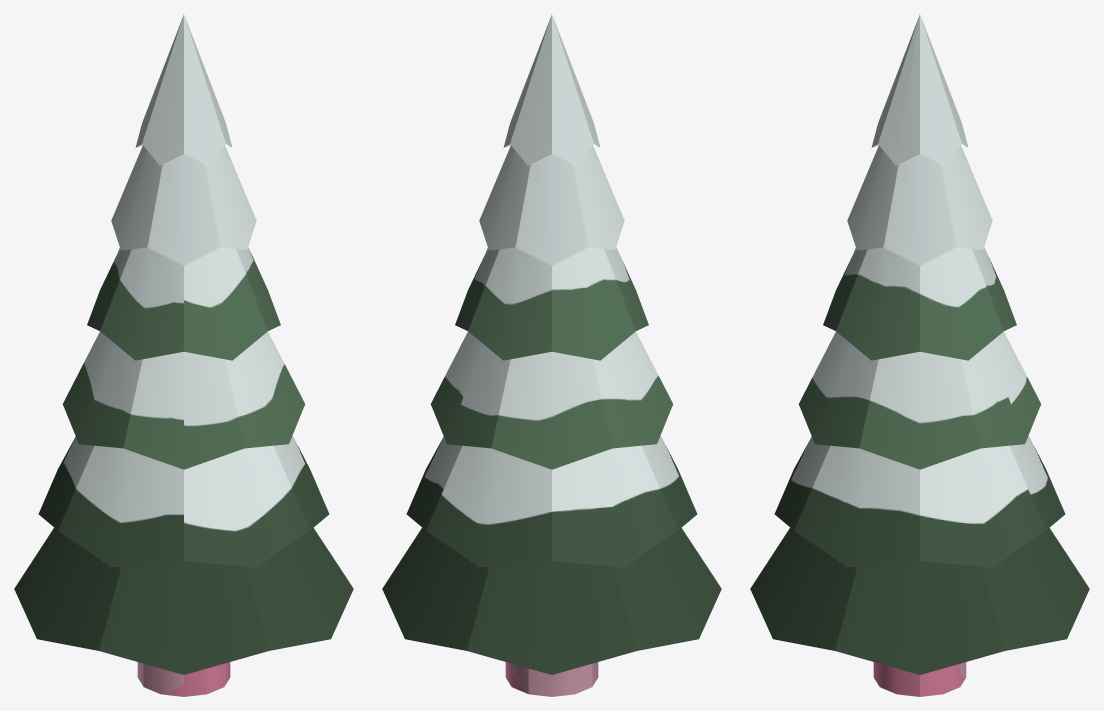
File: FoxTreeTest_2 1.fbx
3 renders of one model, left to right at view 1: azimuth 30°, elevation 25°; view 2: azimuth 150°, elevation 25°; view 3: azimuth 270°, elevation 25°, orthographic.
Visible parts, largest first — view 1: Cylinder.001; view 2: Cylinder.001; view 3: Cylinder.001.
Part boxes in pixels (<box>): Cylinder.001: <box>14,14,353,696</box>; Cylinder.001: <box>382,14,721,696</box>; Cylinder.001: <box>750,14,1089,696</box>.
Bounding box in the file's own units: 370 × 798 × 370.
